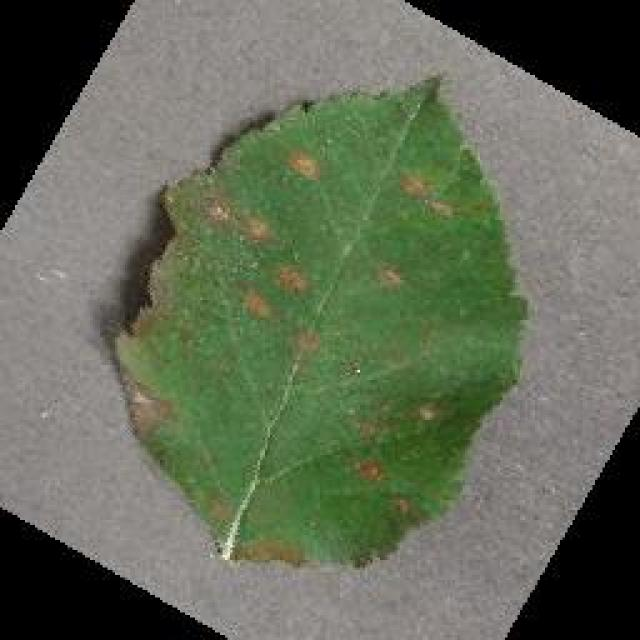apple cedar apple rust: (110, 70, 530, 570)
